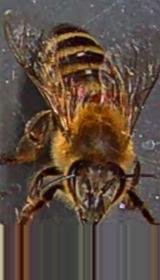varroa_mite: (84, 87, 115, 106)
